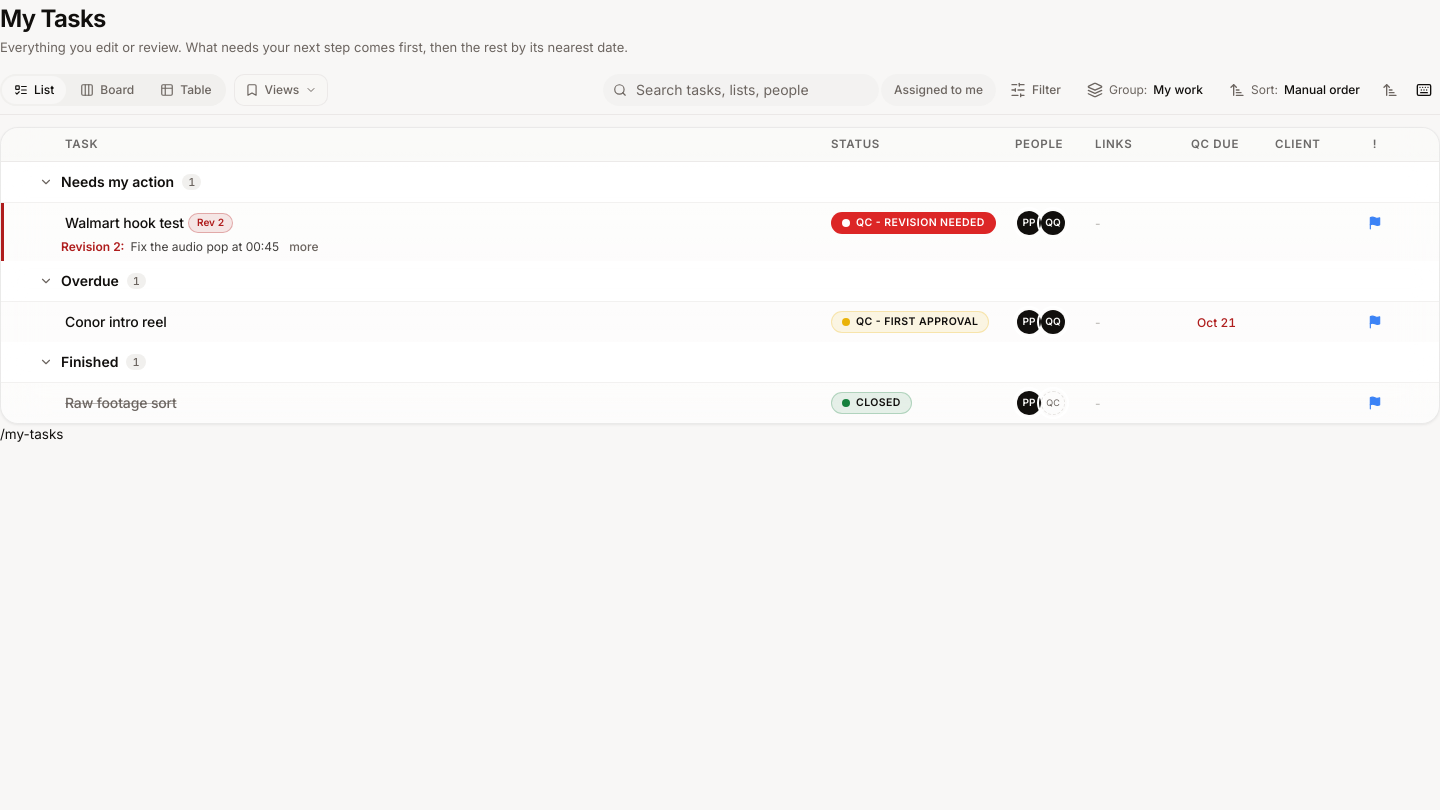
Test: My Tasks › opens a task over the view at /my-tasks/tasks/:id and keeps the view behind it
Click the link "Conor intro reel" at coordinates (116, 322), box [65,311,167,332]
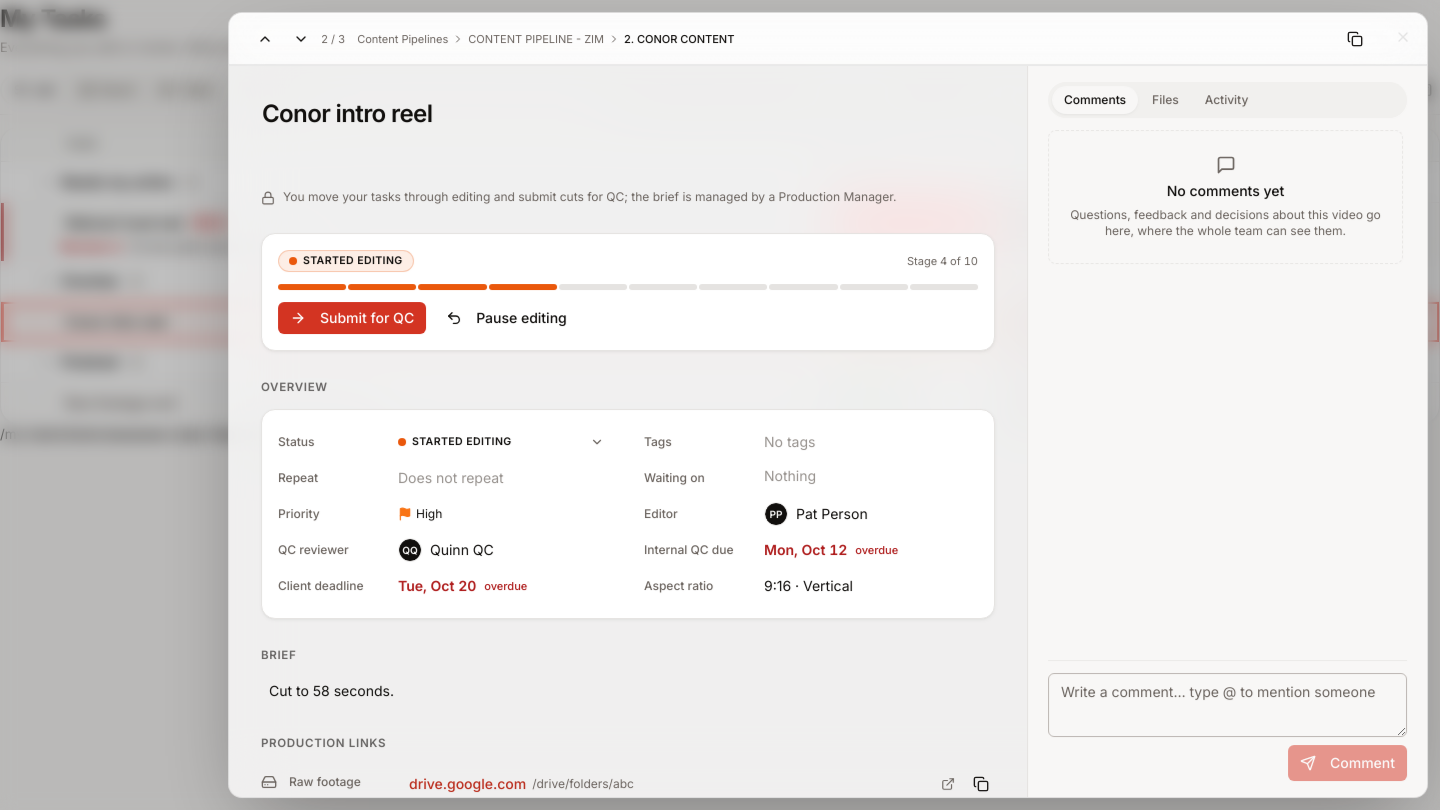
Expected: the link "Walmart hook test" is shown, [65,212,184,233]
Expected: the dialog is shown
